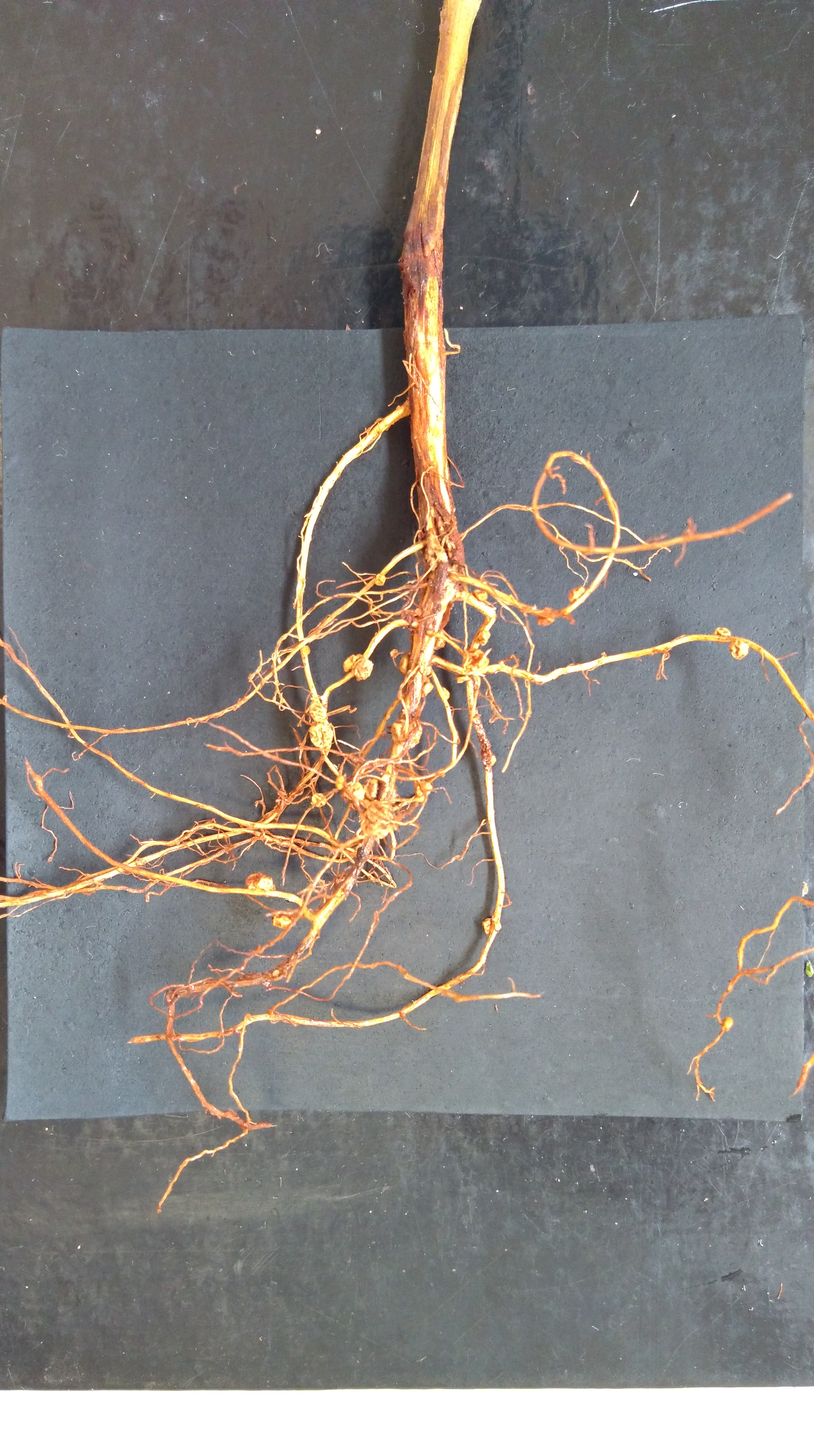nodule: (360, 803, 397, 842), (422, 525, 449, 573), (387, 716, 425, 749), (242, 868, 279, 894), (342, 653, 374, 682), (307, 723, 334, 749), (464, 649, 491, 674), (270, 909, 295, 930), (728, 639, 749, 660), (307, 702, 327, 724), (362, 777, 380, 800), (535, 612, 559, 629), (473, 627, 493, 647), (479, 916, 498, 937), (565, 585, 586, 604), (433, 631, 450, 652), (415, 780, 433, 799), (350, 781, 365, 802), (713, 626, 731, 643), (436, 686, 451, 702), (311, 792, 327, 807), (472, 588, 489, 602), (398, 655, 409, 675), (422, 682, 434, 700), (720, 1016, 734, 1030), (374, 572, 386, 588), (454, 674, 471, 685), (389, 647, 401, 659), (300, 644, 311, 657), (335, 775, 345, 783), (335, 782, 343, 790)
